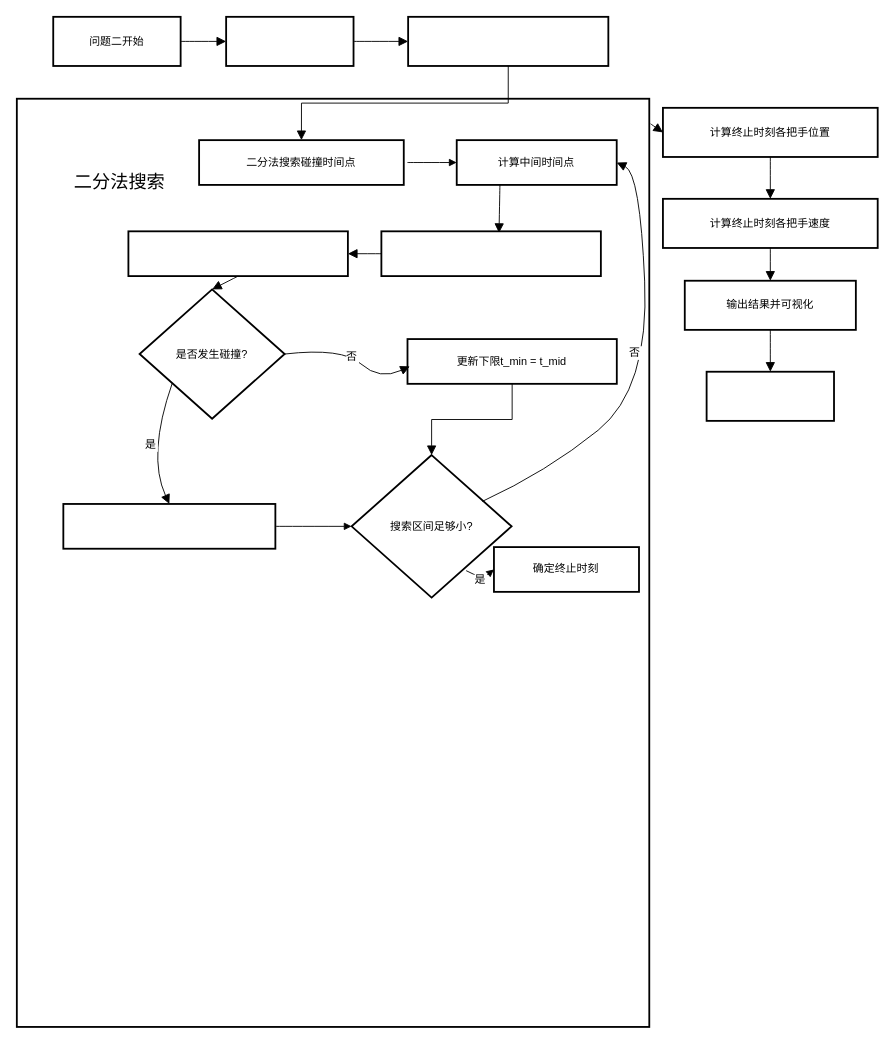
The diagram is 894 pixels wide and 1043 high, and some of its shapes have lost their labels. Here are the shapes that lost their labels. From the top down, the centre of each, then its label:
At point 289,40: "参数初始化".
At point 508,40: "设置初始搜索时间区间".
At point 237,253: "应用分离轴定理检测碰撞".
At point 490,253: "计算该时间点各把手位置".
At point 769,395: "问题二完成".
At point 169,526: "更新上限t_max = t_mid".
